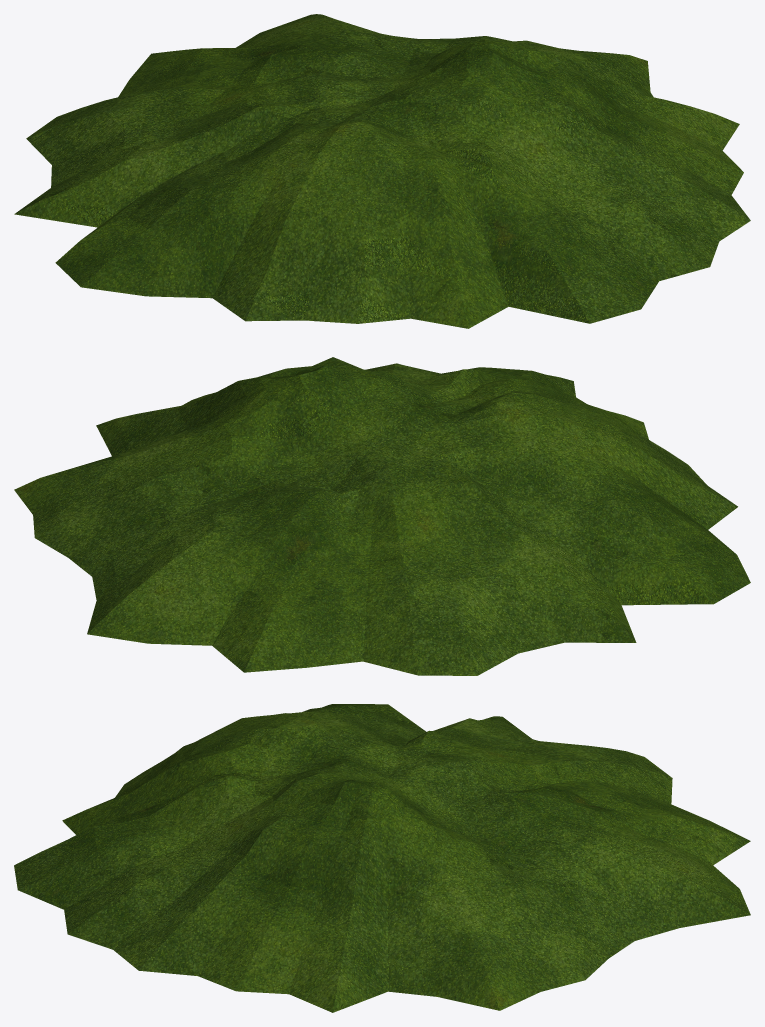
Rendered from rock_moss_patch_v01.fbx.
3 renders of one model, top to bottom at view 1: azimuth 30°, elevation 25°; view 2: azimuth 150°, elevation 25°; view 3: azimuth 270°, elevation 25°, orthographic. The views are drawn at different scales.
Parts seen in each view (by area): view 1: rock_moss_patch_v01; view 2: rock_moss_patch_v01; view 3: rock_moss_patch_v01.
Boxes of the visible parts, left/top/right/bottom form: rock_moss_patch_v01: left=14, top=14, right=750, bottom=328; rock_moss_patch_v01: left=14, top=357, right=750, bottom=675; rock_moss_patch_v01: left=14, top=704, right=750, bottom=1012.
Bounding box in the file's own units: 65.35 × 11.8 × 66.13.
Materials: 1 (1 with a texture image).
